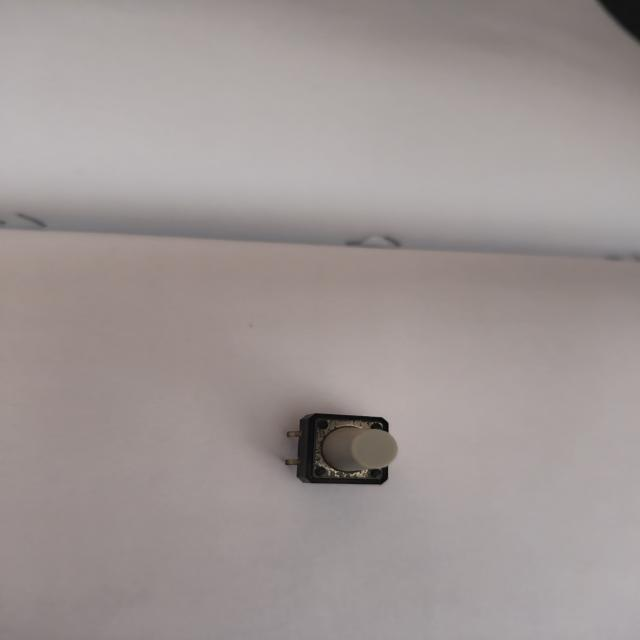switch: (286, 405, 410, 505)
